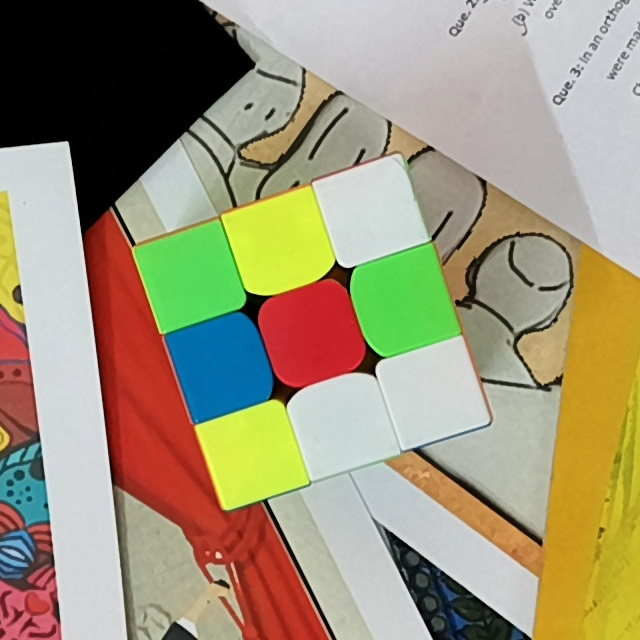tile: (273, 298, 348, 371), (183, 328, 255, 401), (334, 175, 409, 245), (367, 264, 439, 336), (243, 210, 316, 280), (397, 356, 468, 427), (310, 387, 379, 456), (154, 242, 226, 308), (221, 419, 286, 487)
